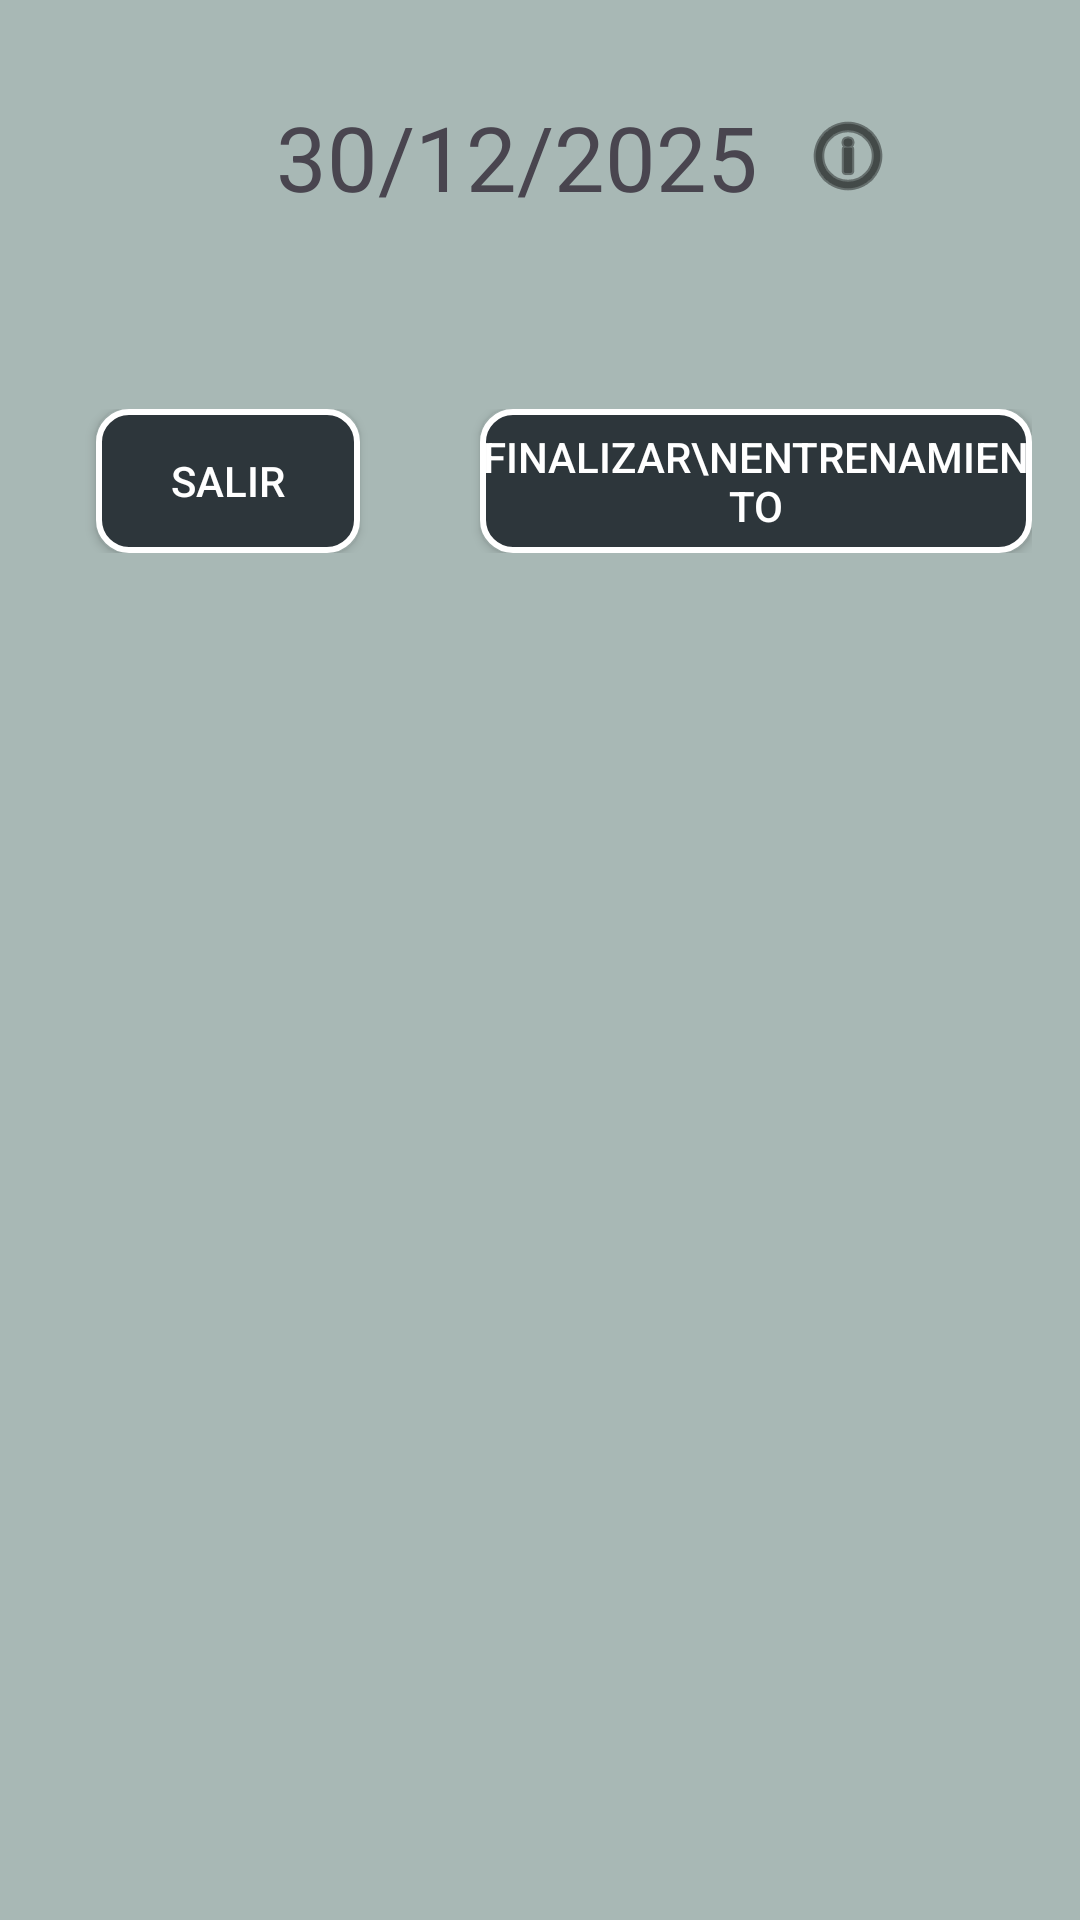

Named icons in this screenshot (1080x1920) and their centers, [x,y]:
Info: [848,156]
